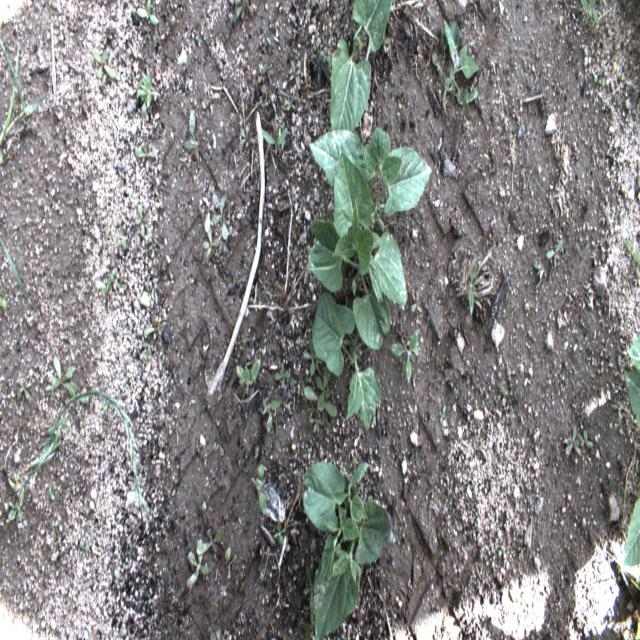crop: (302, 460, 392, 639), (310, 126, 432, 233), (308, 197, 390, 349), (334, 151, 408, 305), (312, 292, 379, 433), (329, 1, 393, 133), (620, 496, 639, 584), (622, 336, 640, 428)
weed: (8, 388, 149, 533), (432, 17, 480, 128), (0, 236, 41, 319), (0, 42, 27, 166), (0, 39, 40, 116), (390, 327, 419, 384), (185, 537, 210, 592), (302, 383, 337, 418), (137, 74, 162, 118), (208, 193, 230, 240), (52, 355, 78, 392), (236, 358, 261, 396), (195, 527, 224, 556), (468, 266, 484, 317), (92, 48, 115, 81), (261, 118, 288, 146), (316, 366, 332, 413), (262, 397, 282, 434), (7, 487, 25, 528), (134, 144, 158, 172), (609, 479, 626, 518), (202, 226, 220, 262), (135, 1, 159, 27), (303, 564, 316, 612), (68, 384, 89, 412), (184, 108, 198, 150), (564, 424, 581, 458), (255, 463, 266, 515), (545, 238, 564, 268), (274, 363, 295, 390), (94, 273, 114, 301), (304, 337, 318, 375), (134, 203, 149, 237), (498, 381, 522, 402), (580, 0, 598, 27), (144, 318, 166, 340), (200, 86, 220, 110), (623, 236, 639, 266), (236, 122, 250, 154), (202, 196, 214, 232), (272, 519, 286, 547), (101, 52, 113, 84), (533, 257, 544, 290), (288, 59, 300, 89), (111, 267, 127, 289), (409, 289, 423, 314), (224, 546, 237, 572), (128, 79, 144, 99), (16, 376, 30, 398), (43, 370, 55, 395), (256, 61, 268, 85), (234, 0, 248, 20), (580, 428, 594, 448), (319, 48, 331, 67), (309, 415, 322, 432), (143, 279, 153, 301), (306, 613, 314, 639), (138, 346, 152, 360), (306, 401, 316, 420), (118, 226, 126, 248), (78, 538, 90, 552), (49, 485, 58, 502), (293, 140, 300, 160), (439, 404, 446, 424), (593, 76, 603, 89), (286, 98, 295, 112), (209, 628, 220, 639), (103, 229, 109, 249), (117, 317, 127, 329), (273, 112, 283, 124), (498, 544, 506, 558), (99, 402, 107, 415), (228, 0, 241, 7), (0, 297, 6, 312), (382, 37, 392, 45), (265, 35, 272, 46), (636, 265, 640, 284), (454, 387, 458, 395)
